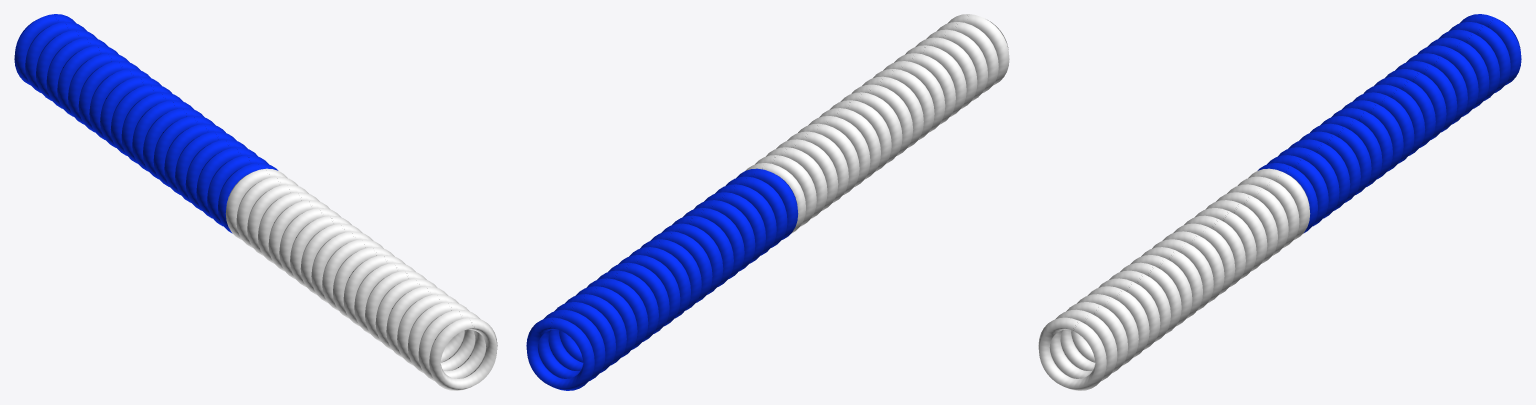
Rendered from cont dividers.obj.
3 views of the same model, side by side, from view 1: azimuth 30°, elevation 25°; view 2: azimuth 150°, elevation 25°; view 3: azimuth 330°, elevation 25° (orthographic).
Parts seen in each view (by area): view 1: Cylinder, Cylinder.001; view 2: Cylinder.001, Cylinder; view 3: Cylinder, Cylinder.001.
Part boxes in pixels (bbox=[...]): Cylinder: bbox=[225, 168, 497, 390]; Cylinder.001: bbox=[14, 14, 278, 233]; Cylinder.001: bbox=[526, 168, 798, 390]; Cylinder: bbox=[745, 14, 1009, 233]; Cylinder: bbox=[1038, 168, 1310, 390]; Cylinder.001: bbox=[1257, 14, 1521, 233].
Size of the model in its own units: 2.43 by 2.43 by 26.17.
